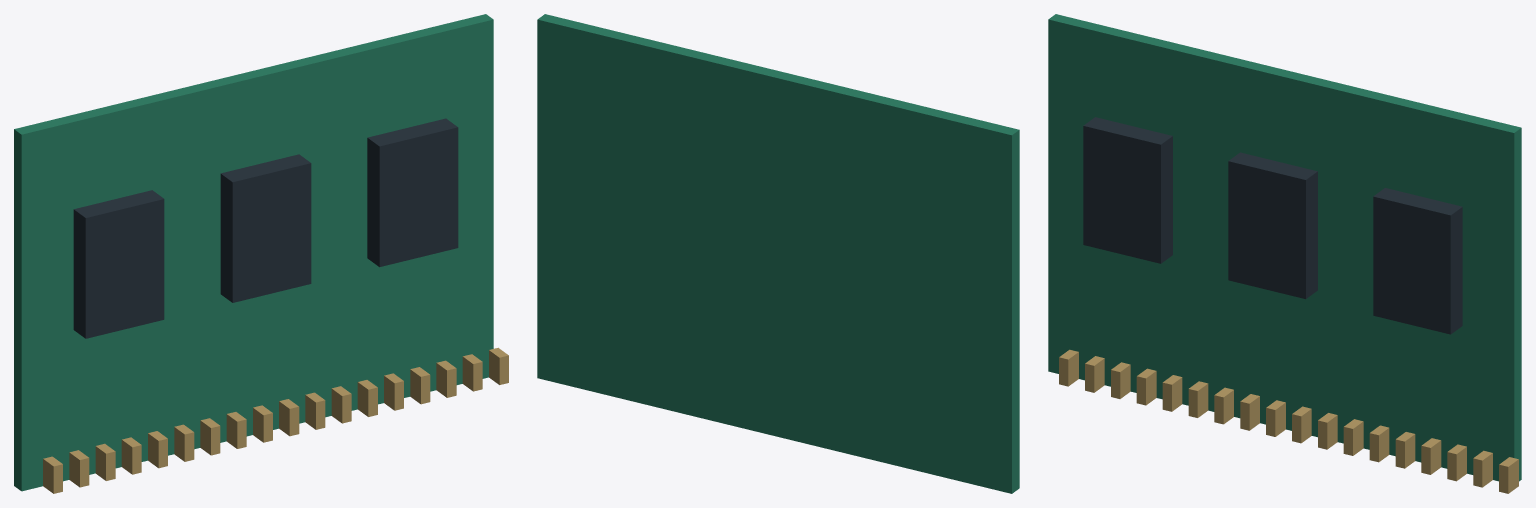
3 views of the same model, side by side, from view 1: azimuth 30°, elevation 25°; view 2: azimuth 150°, elevation 25°; view 3: azimuth 330°, elevation 25° (orthographic).
Visible parts, largest first — view 1: 主控板; view 2: 主控板; view 3: 主控板.
Part boxes in pixels (<box>): 主控板: <box>14,14,508,493</box>; 主控板: <box>537,14,1019,493</box>; 主控板: <box>1048,14,1521,493</box>.
Size of the model in its own units: 0.909 by 0.65 by 0.0725.
